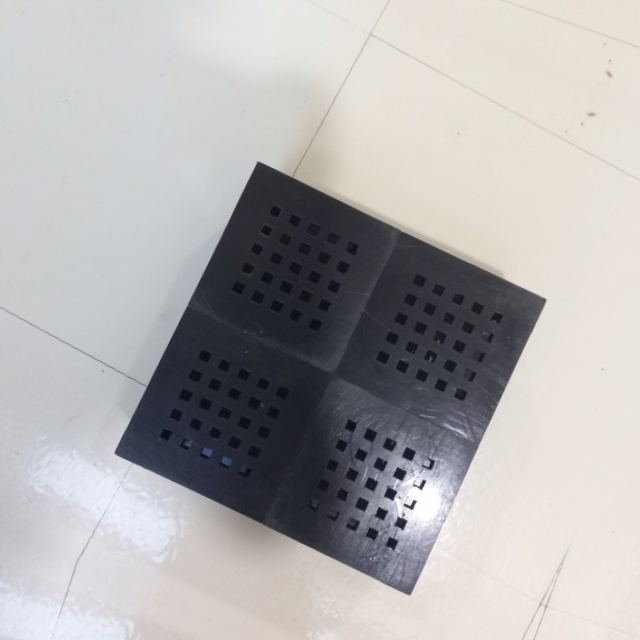pallet: (87, 146, 559, 612)
